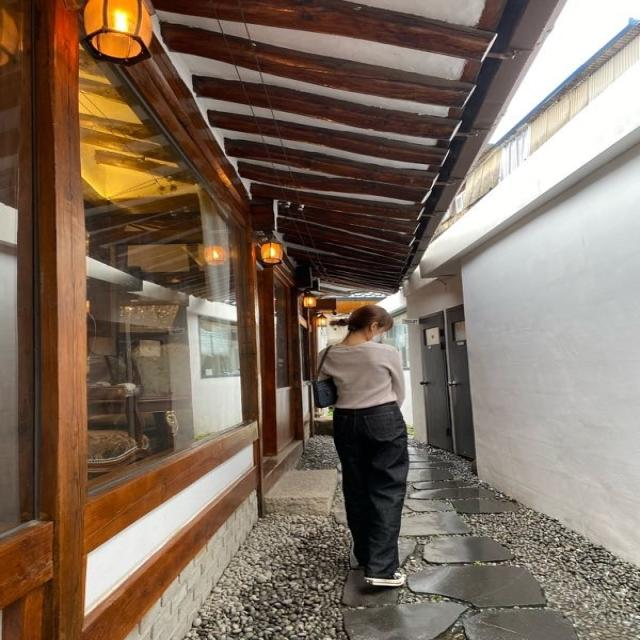cardigan: (320, 341, 407, 411)
denimpants: (332, 397, 411, 582)
